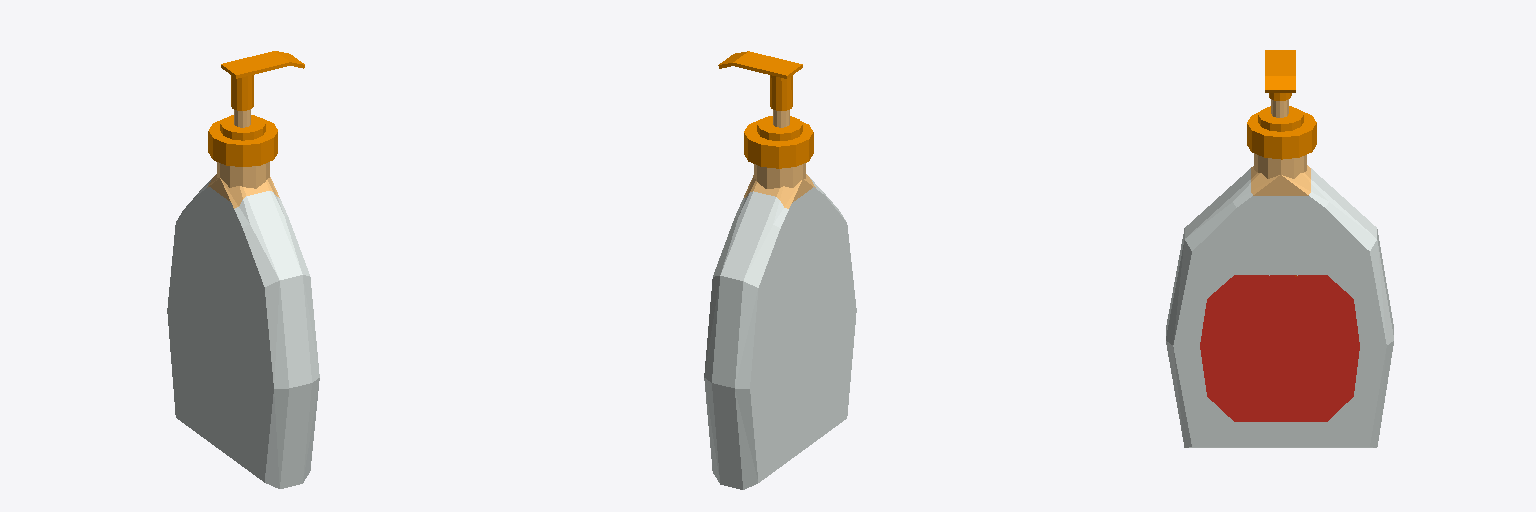
The model's file is CremaDeManosRoja.obj.
3 renders of one model, left to right at view 1: azimuth 30°, elevation 25°; view 2: azimuth 150°, elevation 25°; view 3: azimuth 270°, elevation 25°, orthographic.
Parts seen in each view (by area): view 1: group[number redacted]; view 2: group[number redacted]; view 3: group[number redacted].
Boxes of the visible parts, x1,y1,x2,y2 form: group[number redacted]: [167, 51, 319, 488]; group[number redacted]: [704, 51, 856, 489]; group[number redacted]: [1166, 50, 1393, 447].
Bounding box in the file's own units: 0.6402 × 2.81 × 1.51.